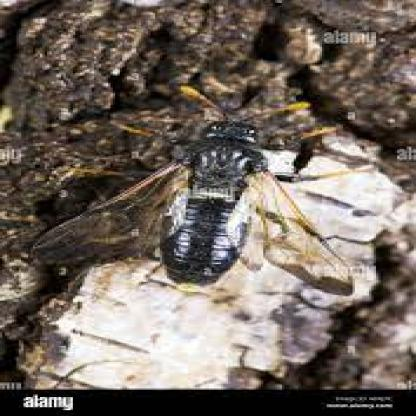sawfly: (16, 84, 376, 296)
